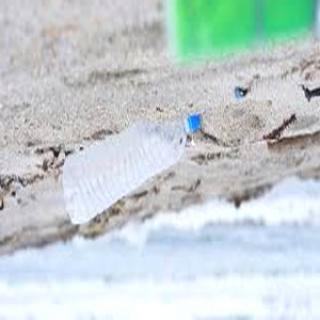Plastic: (62, 112, 203, 226), (158, 0, 320, 69)
